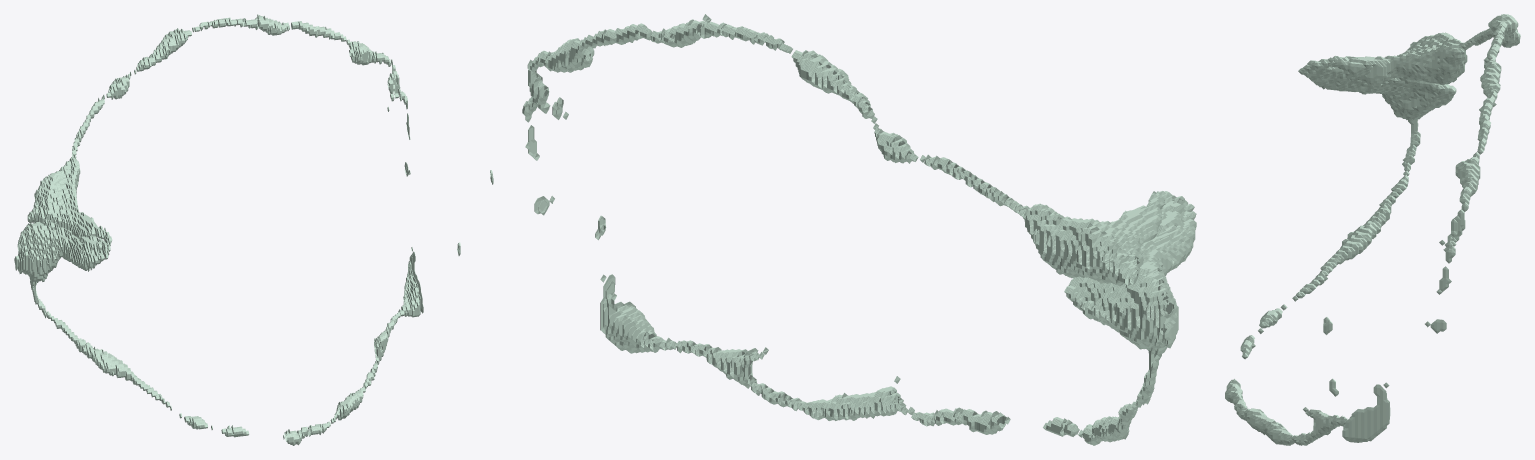
The model's file is SVV_RMER.gltf.
The picture shows the model from 3 angles, left to right: view 1: azimuth 30°, elevation 25°; view 2: azimuth 150°, elevation 25°; view 3: azimuth 270°, elevation 25°; orthographic projection. The views are drawn at different scales.
Parts seen in each view (by area): view 1: RMER; view 2: RMER; view 3: RMER.
Boxes of the visible parts, x1,y1,x2,y2 form: RMER: [14, 14, 493, 445]; RMER: [522, 14, 1196, 445]; RMER: [1225, 14, 1520, 445].
Bounding box in the file's own units: 120965 × 87696 × 60690.
